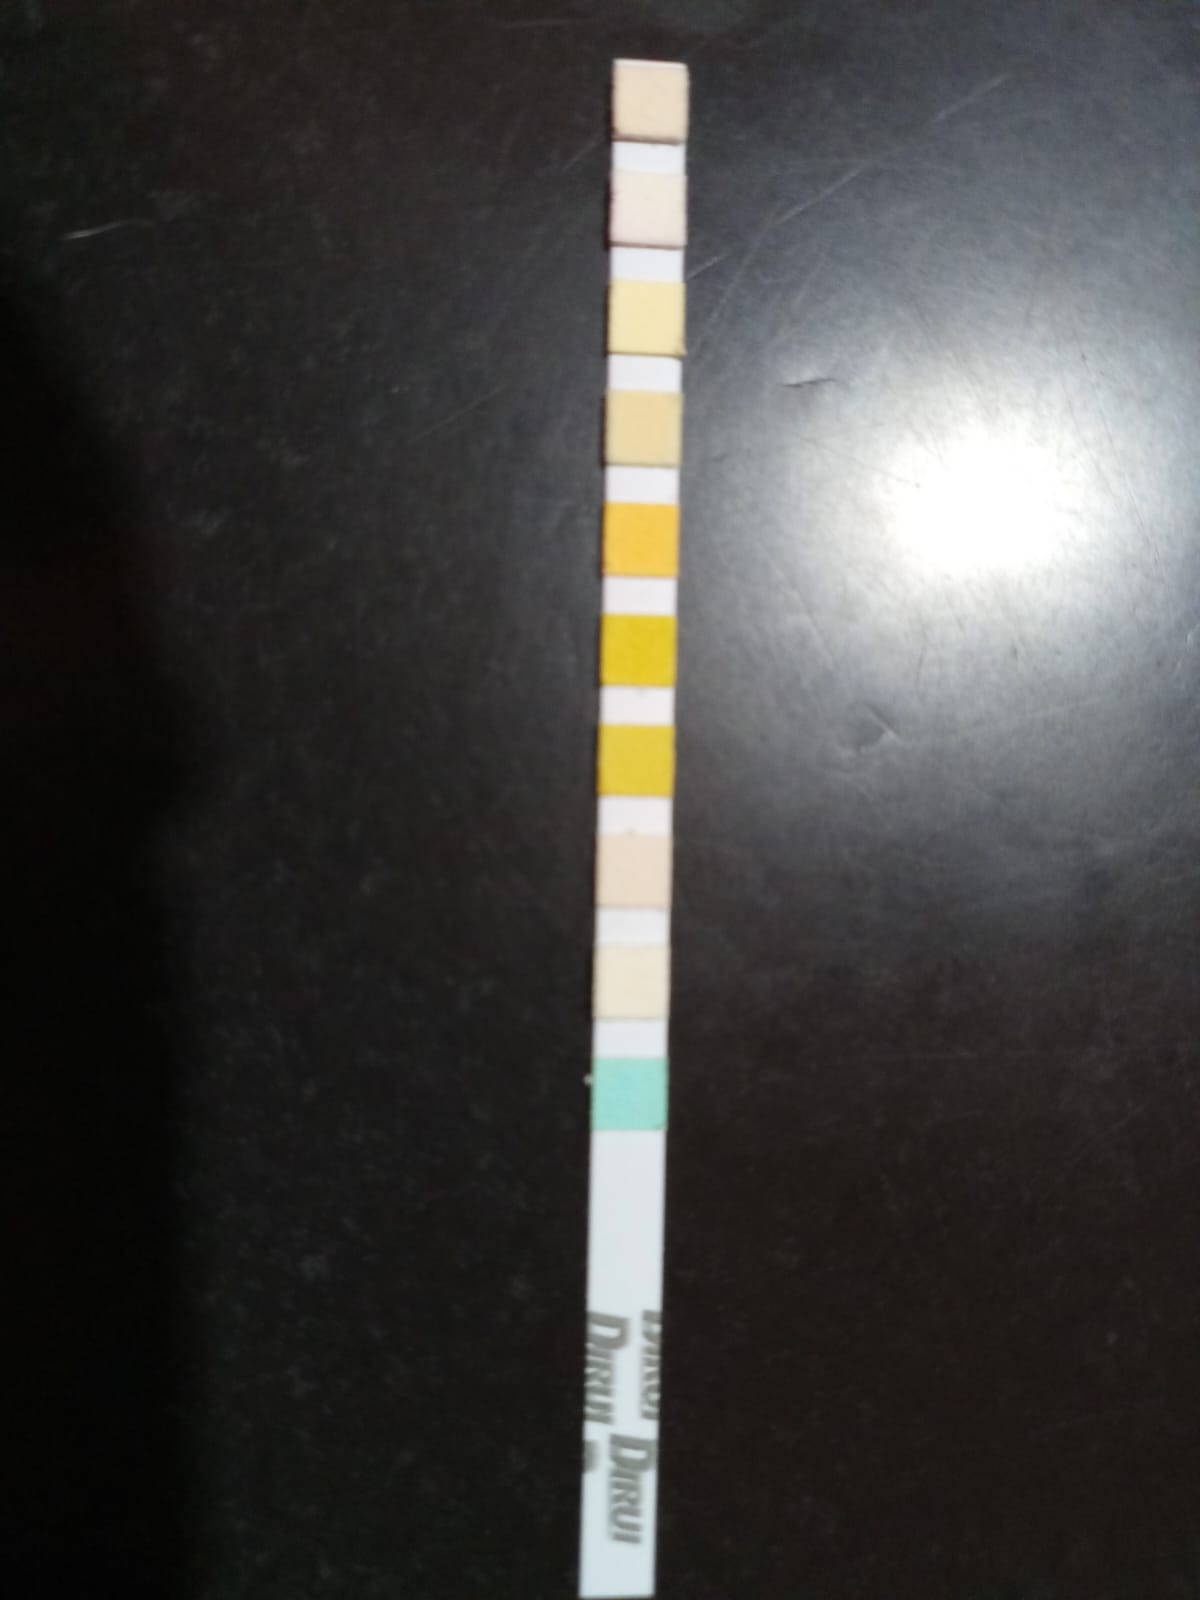color 1: (618, 66, 682, 134)
color 10: (595, 1065, 662, 1124)
color 2: (618, 179, 683, 242)
color 3: (614, 289, 681, 350)
color 4: (609, 394, 678, 460)
color 5: (608, 506, 674, 574)
color 6: (605, 620, 674, 683)
color 7: (601, 729, 671, 790)
color 8: (601, 838, 666, 903)
color 9: (597, 950, 666, 1015)
